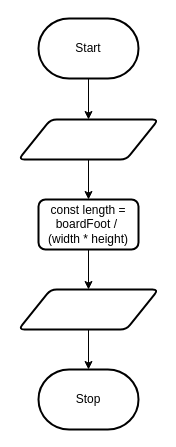
The diagram is 176 pixels wide and 447 high, and some of its shapes have lost their labels. Here are the shapes that lost their labels. From the top down, the centre of each, then its label:
pixel 88 139: Get width and height
pixel 88 309: return length
